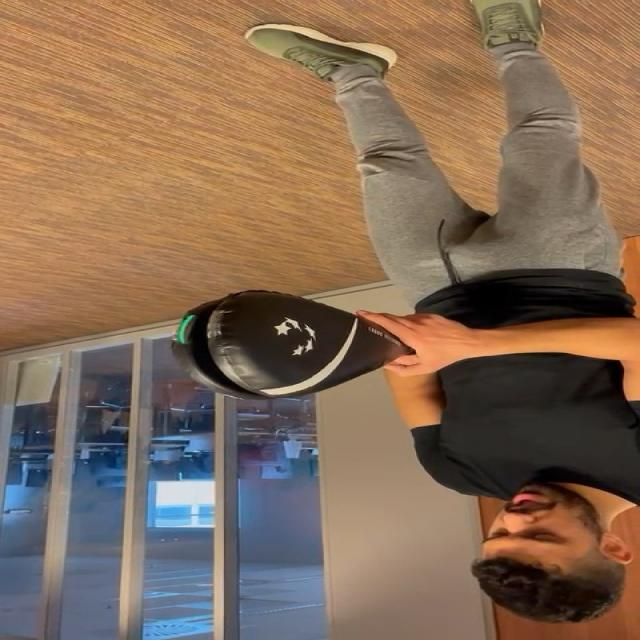paddle: (174, 291, 396, 398)
trigger: (171, 313, 202, 347)
